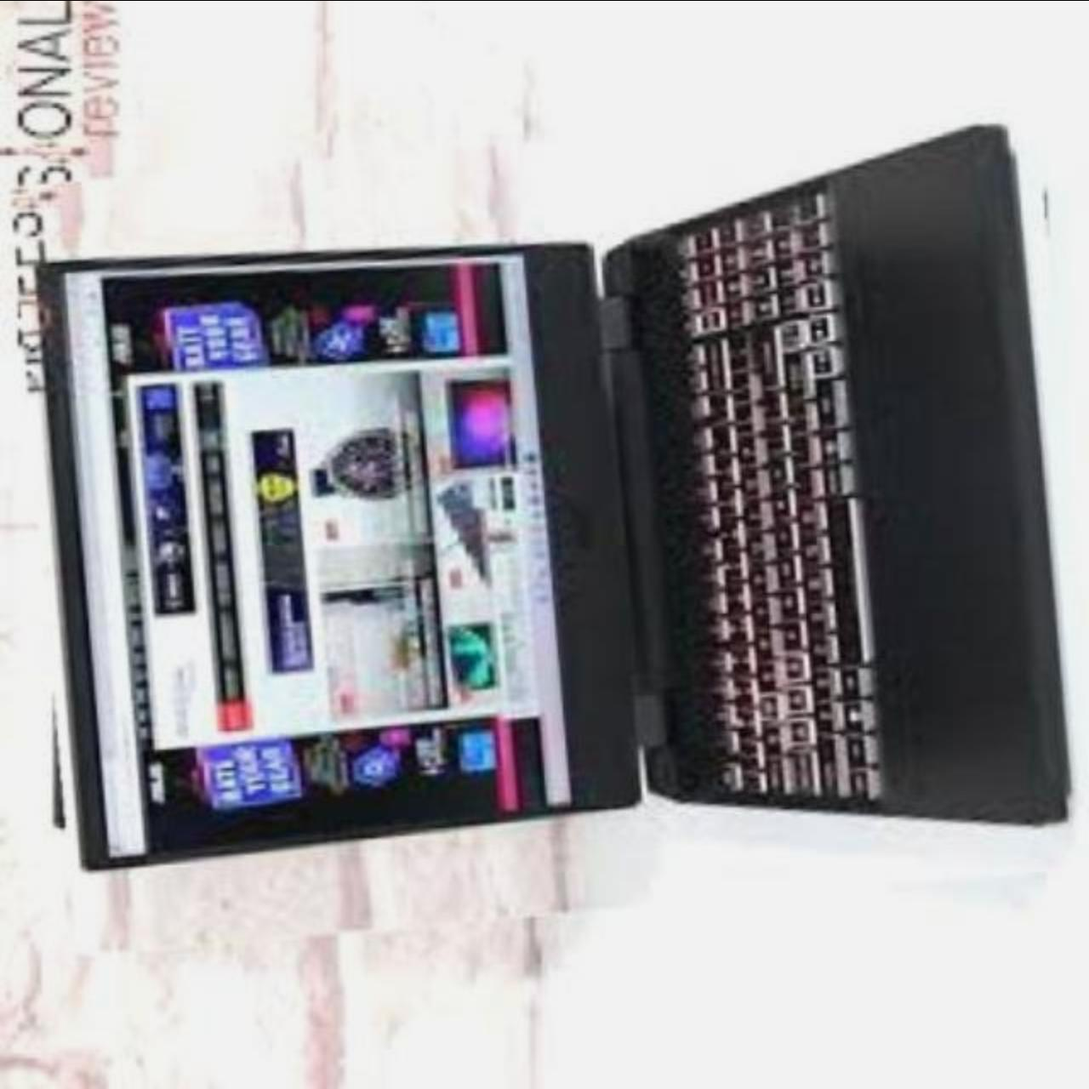laptop: (26, 116, 1086, 932)
